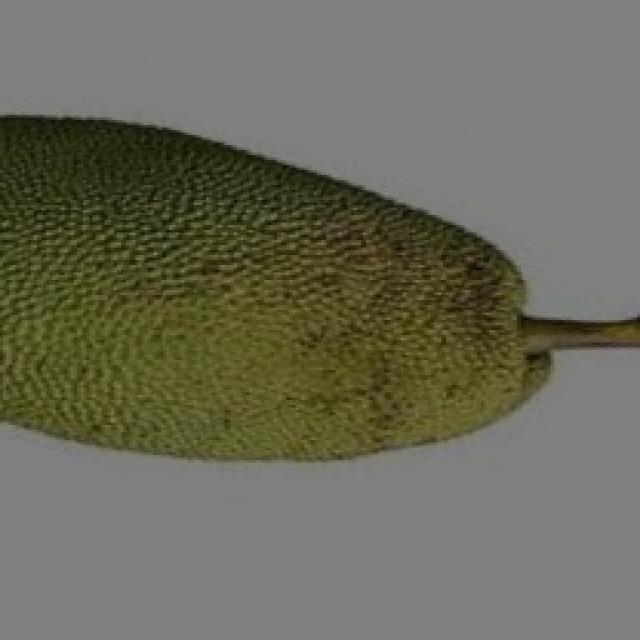Fruit: (0, 92, 409, 490), (222, 120, 578, 485)
